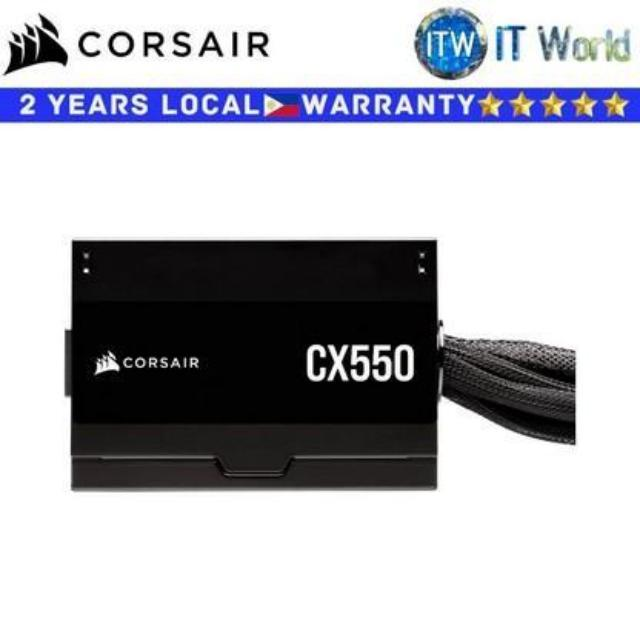PSU: (58, 232, 456, 508)
